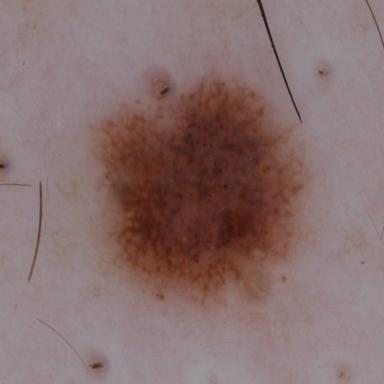nevus: (95, 80, 302, 300)
